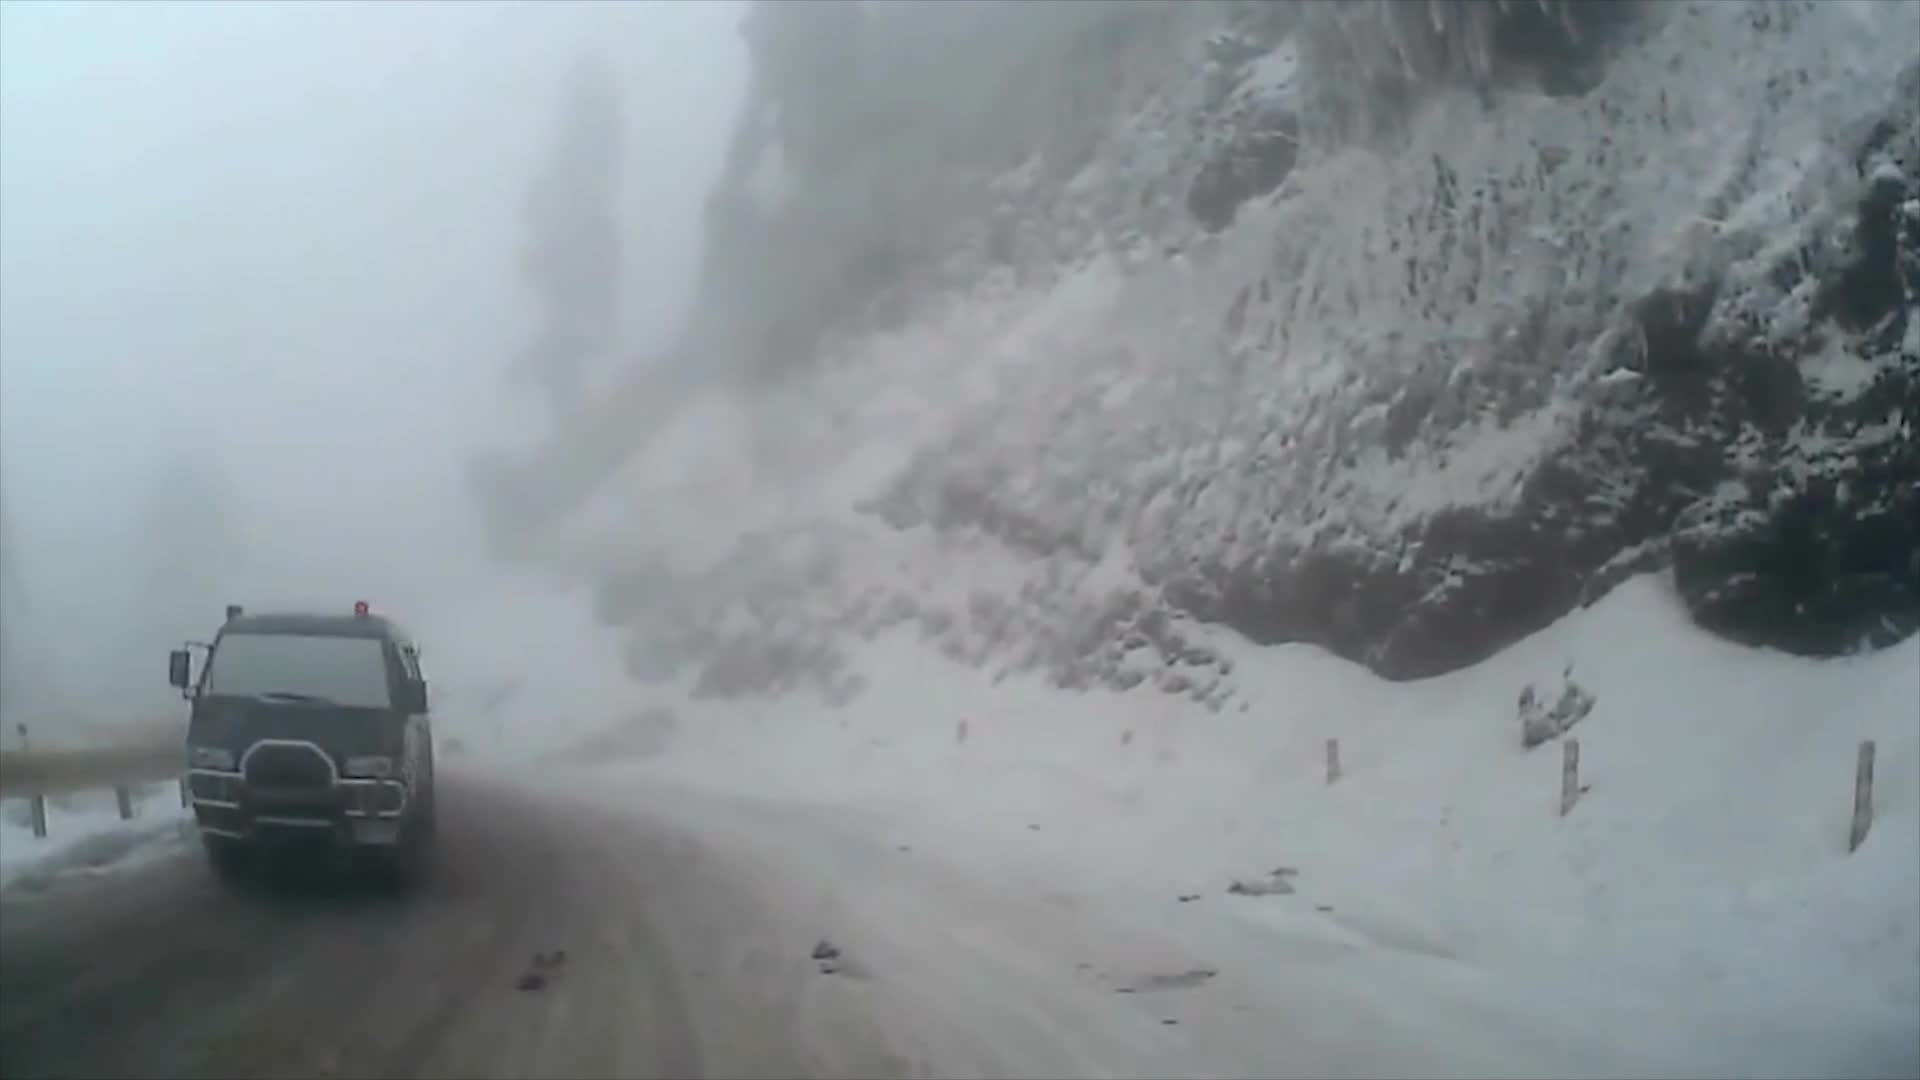vehicle: (167, 597, 434, 894)
